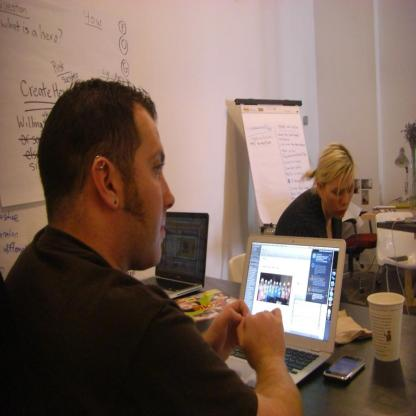board: (236, 233, 346, 394), (142, 212, 209, 299)
